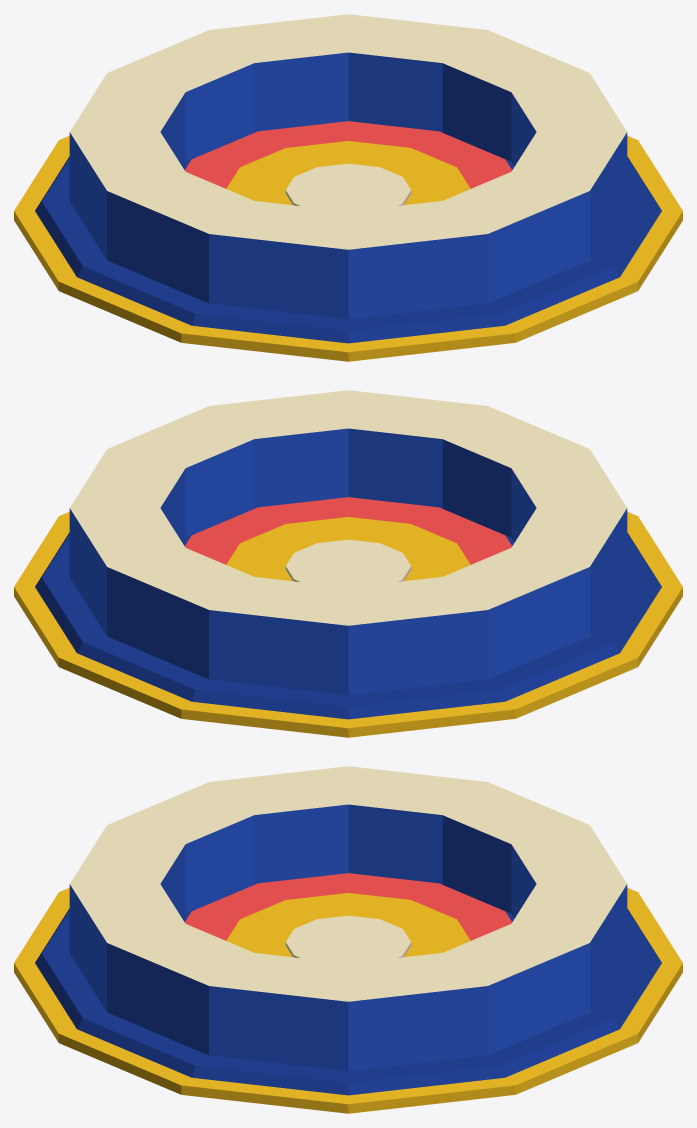
File: target.glb
3 views of the same model, one above another, from view 1: azimuth 30°, elevation 25°; view 2: azimuth 150°, elevation 25°; view 3: azimuth 270°, elevation 25° (orthographic).
Visible parts, largest first — view 1: TargetCup, TargetBullseye, TargetHalo; view 2: TargetCup, TargetBullseye, TargetHalo; view 3: TargetCup, TargetBullseye, TargetHalo.
Part boxes in pixels (left/top/right/bottom): TargetCup: left=35, top=14, right=661, bottom=343; TargetBullseye: left=184, top=121, right=512, bottom=211; TargetHalo: left=14, top=136, right=682, bottom=361; TargetCup: left=35, top=390, right=661, bottom=719; TargetBullseye: left=184, top=497, right=512, bottom=587; TargetHalo: left=14, top=512, right=682, bottom=737; TargetCup: left=35, top=766, right=661, bottom=1095; TargetBullseye: left=184, top=873, right=512, bottom=963; TargetHalo: left=14, top=888, right=682, bottom=1113.
Size of the model in its own units: 0.96 by 0.14 by 0.96.
1 material, 1 textured.
